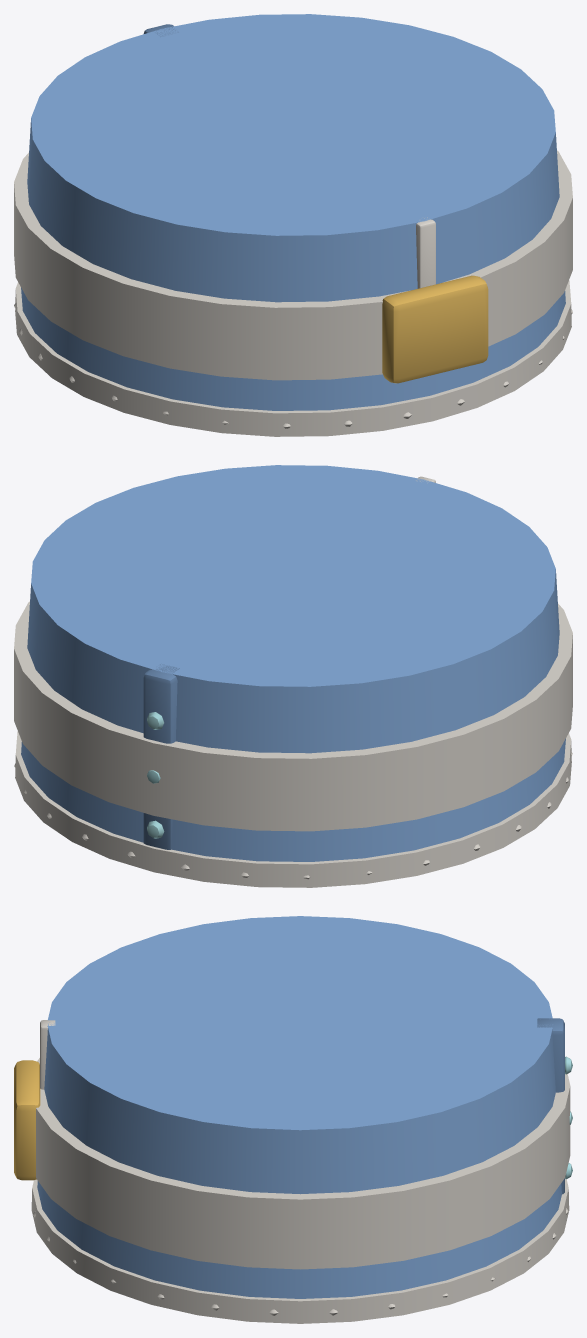
File: Minion_Ring_1.fbx
The picture shows the model from 3 angles, top to bottom: view 1: azimuth 30°, elevation 25°; view 2: azimuth 150°, elevation 25°; view 3: azimuth 270°, elevation 25°; orthographic projection. The views are drawn at different scales.
Parts seen in each view (by area): view 1: Minion_Ring_1; view 2: Minion_Ring_1; view 3: Minion_Ring_1.
Part boxes in pixels (bbox=[...]): Minion_Ring_1: bbox=[14, 14, 572, 436]; Minion_Ring_1: bbox=[14, 465, 572, 887]; Minion_Ring_1: bbox=[14, 916, 572, 1323].
Size of the model in its own units: 0.1176 by 0.045 by 0.1218.
